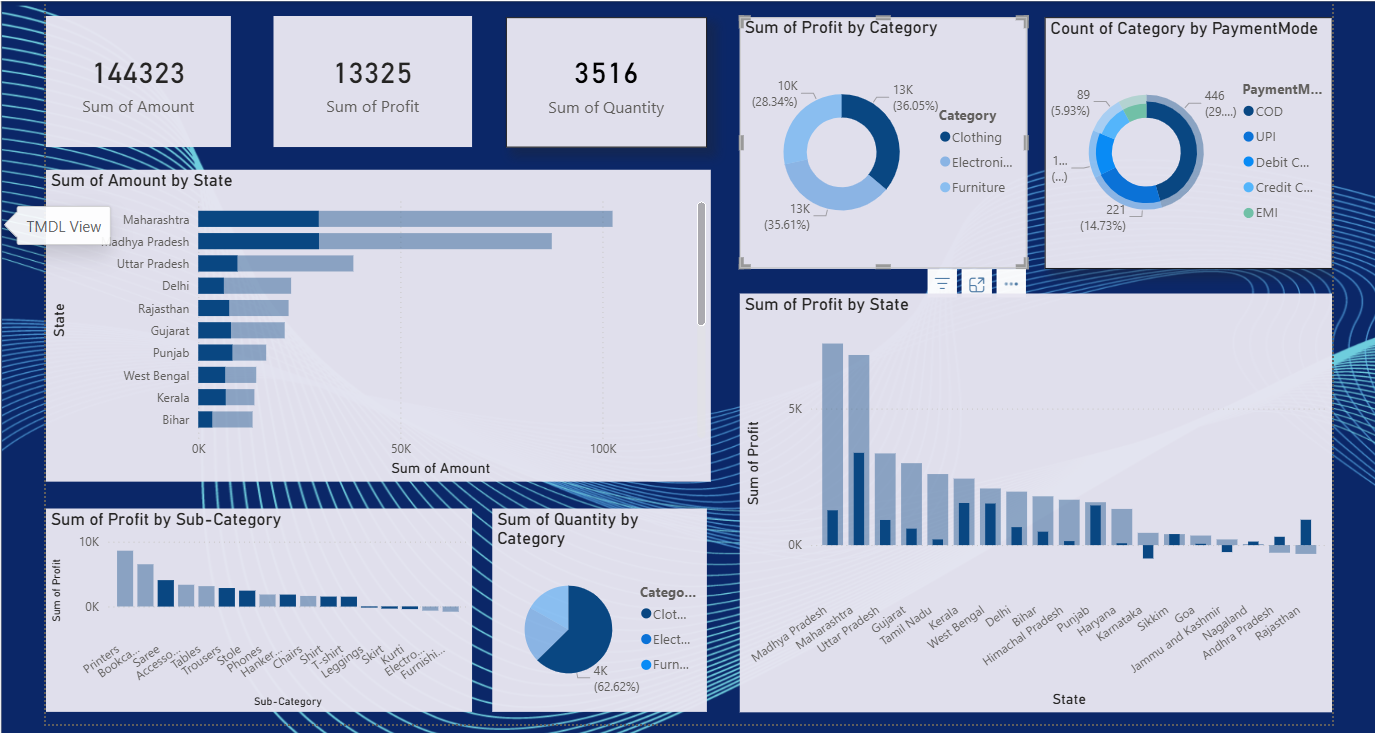

What the dashboard file says about the page in this screenshot:
{"tool":"powerbi","page":{"name":"Page 1","canvas":[1280,720],"ordinal":0},"visuals":[{"type":"card","fields":{"Values":["Sum(Details.Amount)"]},"box":[0,14.9,184.1,130.6],"z":0},{"type":"card","fields":{"Values":["Sum(Details.Profit)"]},"box":[226.4,14.9,197.8,130.6],"z":1000},{"type":"card","fields":{"Values":["Sum(Details.Quantity)"]},"box":[457.8,16.2,200.3,129.4],"z":2000},{"type":"clusteredBarChart","fields":{"Category":["Orders.State"],"Y":["Sum(Details.Amount)"]},"box":[0,167.4,661.4,310.1],"z":3000},{"type":"clusteredColumnChart","fields":{"Y":["Sum(Details.Profit)"],"Category":["Details.Sub-Category"]},"box":[0,505,424.2,202.8],"z":4000},{"type":"donutChart","fields":{"Y":["Sum(Details.Profit)"],"Category":["Details.Category"]},"box":[690.4,16.2,286.1,250],"z":5000},{"type":"donutChart","fields":{"Category":["Details.PaymentMode"],"Y":["CountNonNull(Details.Category)"]},"box":[993.9,16.2,286.1,250],"z":6000},{"type":"pieChart","fields":{"Y":["Sum(Details.Quantity)"],"Category":["Details.Category"]},"box":[444.1,505,214,202.8],"z":7000},{"type":"columnChart","fields":{"Category":["Orders.State"],"Y":["Sum(Details.Profit)"]},"box":[690.4,291.1,589.6,416.7],"z":8000}]}

Visuals, with their boxes in screenshot pixels (x1, y1, x2, y2):
card - Sum(Details.Amount): locate(43, 11, 228, 143)
card - Sum(Details.Profit): locate(271, 11, 469, 143)
card - Sum(Details.Quantity): locate(503, 13, 705, 143)
clusteredBarChart - Orders.State x Sum(Details.Amount): locate(43, 165, 708, 477)
clusteredColumnChart - Sum(Details.Profit) x Details.Sub-Category: locate(43, 504, 469, 708)
donutChart - Sum(Details.Profit) x Details.Category: locate(737, 13, 1025, 264)
donutChart - Details.PaymentMode x CountNonNull(Details.Category): locate(1042, 13, 1330, 264)
pieChart - Sum(Details.Quantity) x Details.Category: locate(489, 504, 705, 708)
columnChart - Orders.State x Sum(Details.Profit): locate(737, 289, 1330, 708)
